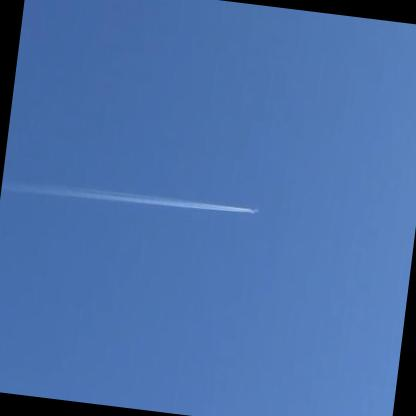plane: (249, 204, 263, 218)
